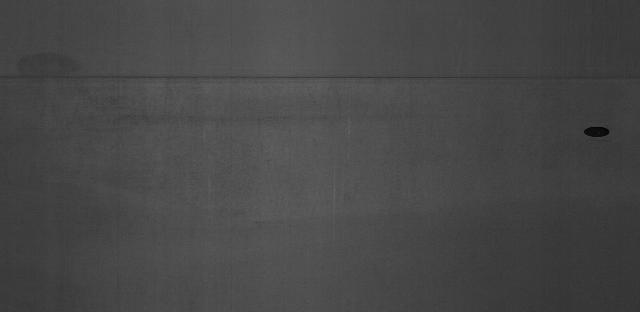punching_hole: (583, 124, 614, 141)
welding_line: (0, 68, 634, 92)
